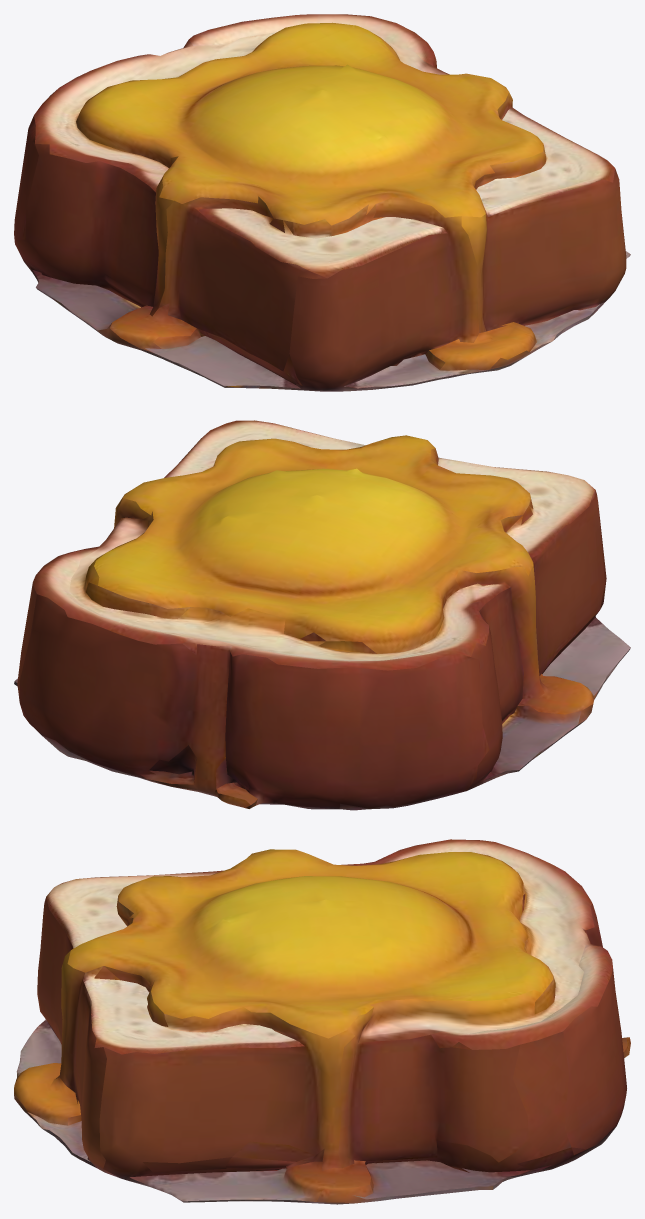
The model's file is cheese_toast.glb.
The picture shows the model from 3 angles, top to bottom: view 1: azimuth 30°, elevation 25°; view 2: azimuth 150°, elevation 25°; view 3: azimuth 270°, elevation 25°; orthographic projection. The views are drawn at different scales.
Visible parts, largest first — view 1: cheese_toast; view 2: cheese_toast; view 3: cheese_toast.
Part boxes in pixels (x1,y1,x2,y2): cheese_toast: (14, 14, 630, 391); cheese_toast: (14, 420, 630, 810); cheese_toast: (14, 839, 630, 1204).
Size of the model in its own units: 0.9394 by 0.3486 by 1.
Materials: 1 (1 with a texture image).
